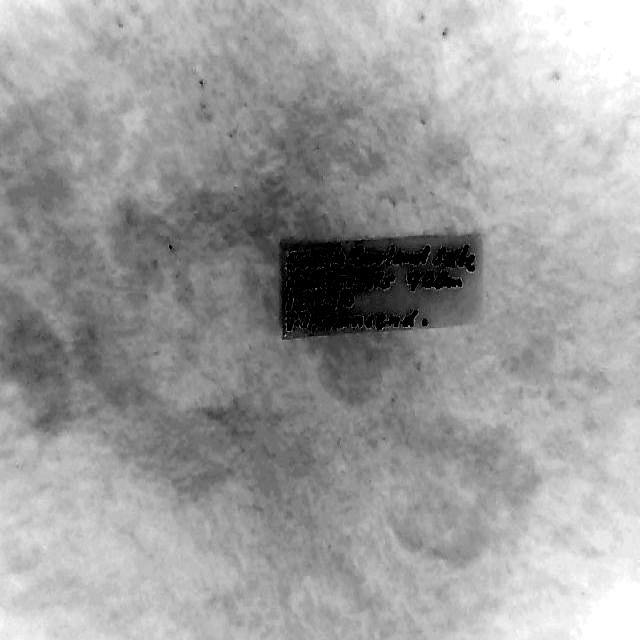hand_label: (282, 237, 482, 338)
